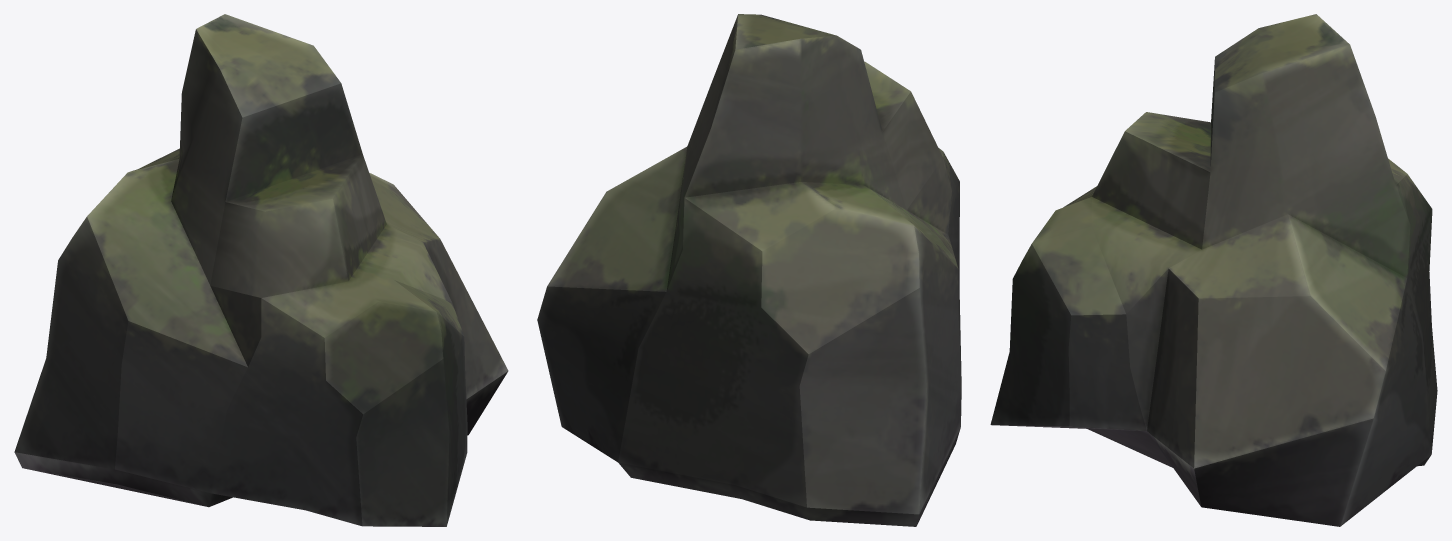
The model's file is Rock_2.glb.
The picture shows the model from 3 angles, left to right: view 1: azimuth 30°, elevation 25°; view 2: azimuth 150°, elevation 25°; view 3: azimuth 270°, elevation 25°; orthographic projection. The views are drawn at different scales.
Visible parts, largest first — view 1: Rock_2; view 2: Rock_2; view 3: Rock_2.
Boxes of the visible parts, left/top/right/bottom form: Rock_2: left=14, top=14, right=508, bottom=526; Rock_2: left=537, top=14, right=961, bottom=526; Rock_2: left=990, top=14, right=1437, bottom=526.
Size of the model in its own units: 1.05 by 1.12 by 1.08.
Materials: 1 (1 with a texture image).
